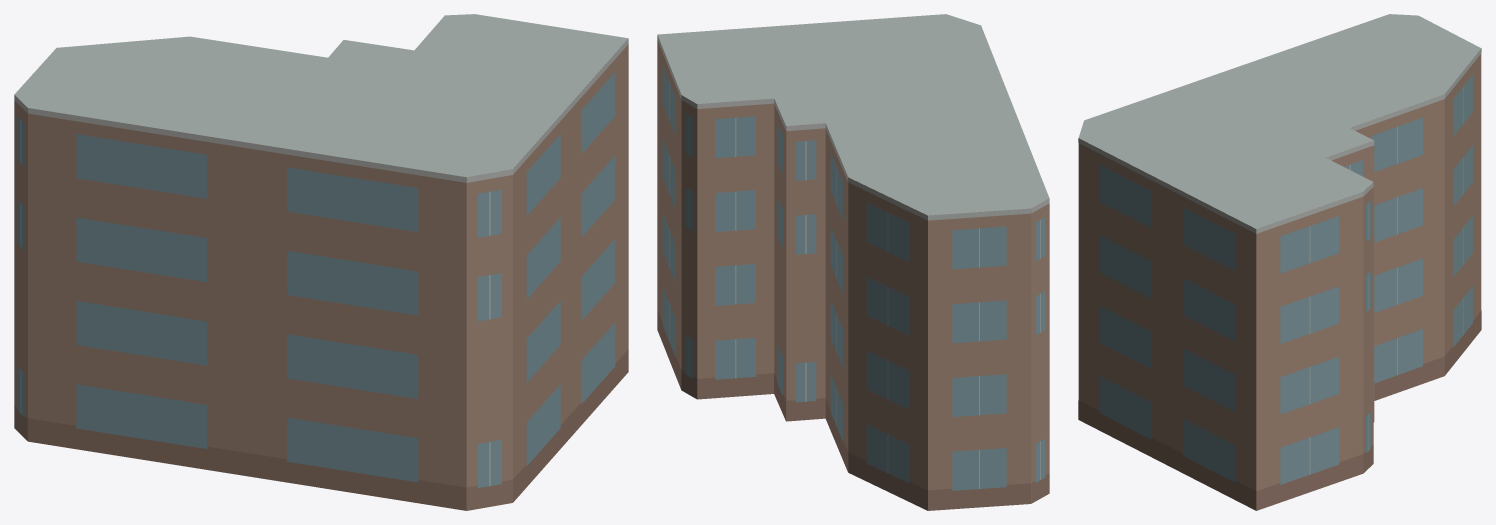
File: survey-upis-33016099.glb
3 views of the same model, side by side, from view 1: azimuth 30°, elevation 25°; view 2: azimuth 150°, elevation 25°; view 3: azimuth 270°, elevation 25° (orthographic). The views are drawn at different scales.
Visible parts, largest first — view 1: survey-upis-33016099.tmp; view 2: survey-upis-33016099.tmp; view 3: survey-upis-33016099.tmp.
Part boxes in pixels (bbox=[...]): survey-upis-33016099.tmp: bbox=[14, 14, 628, 510]; survey-upis-33016099.tmp: bbox=[657, 14, 1049, 510]; survey-upis-33016099.tmp: bbox=[1078, 14, 1481, 510].
Size of the model in its own units: 23.42 by 14.3 by 18.54.
